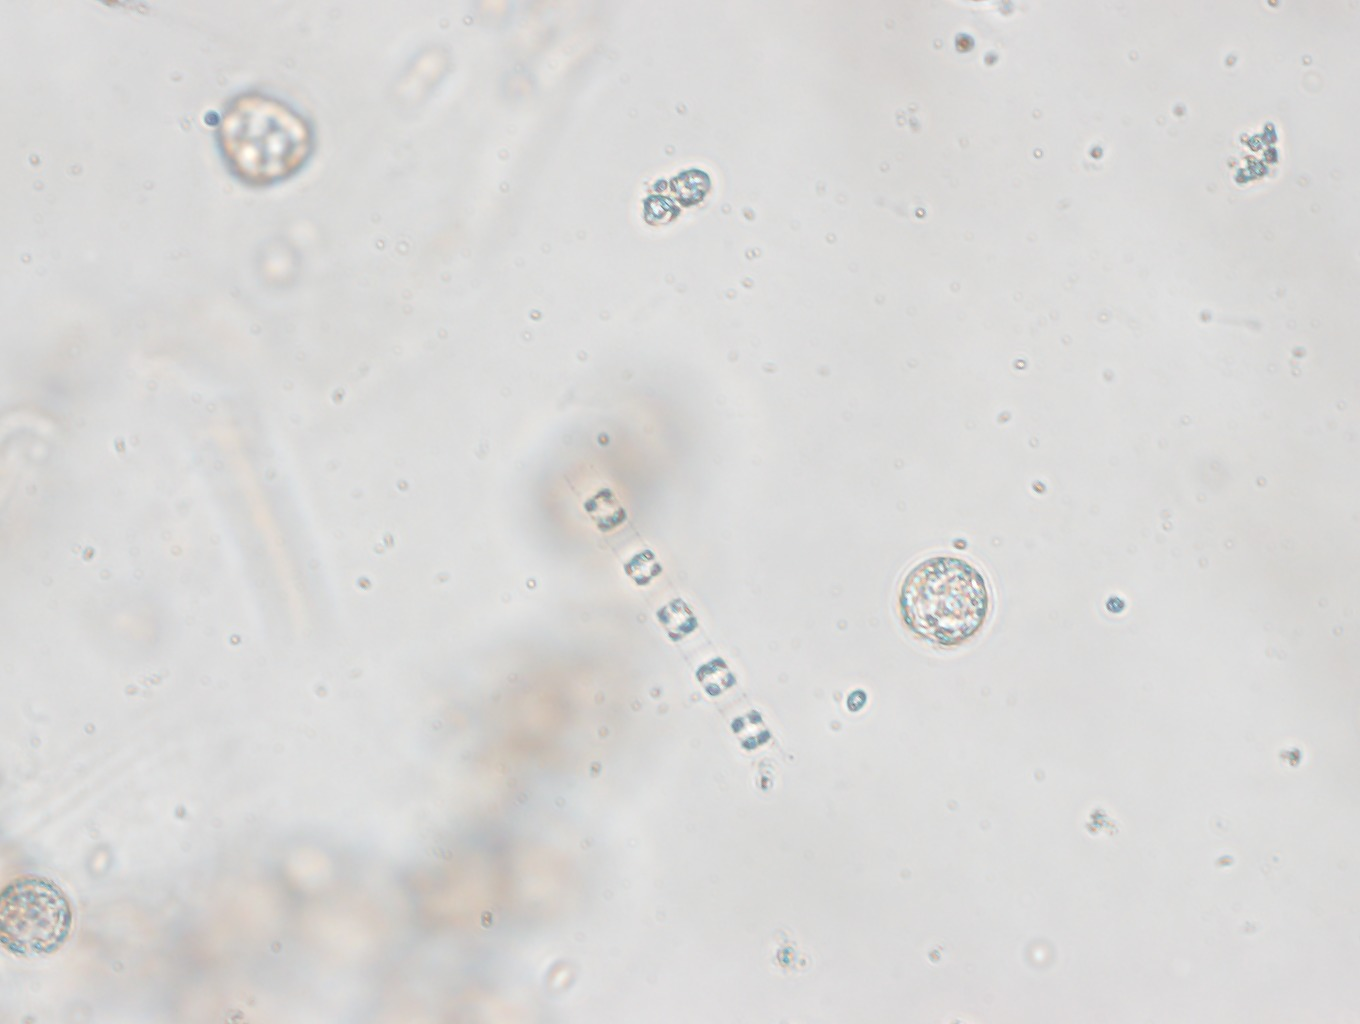skeletonema: (548, 455, 802, 784)
